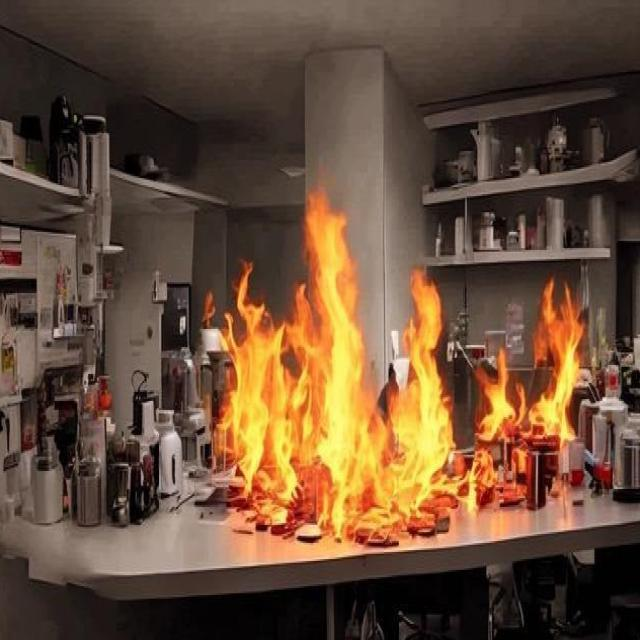smoke: (216, 185, 462, 548), (466, 272, 588, 519)
